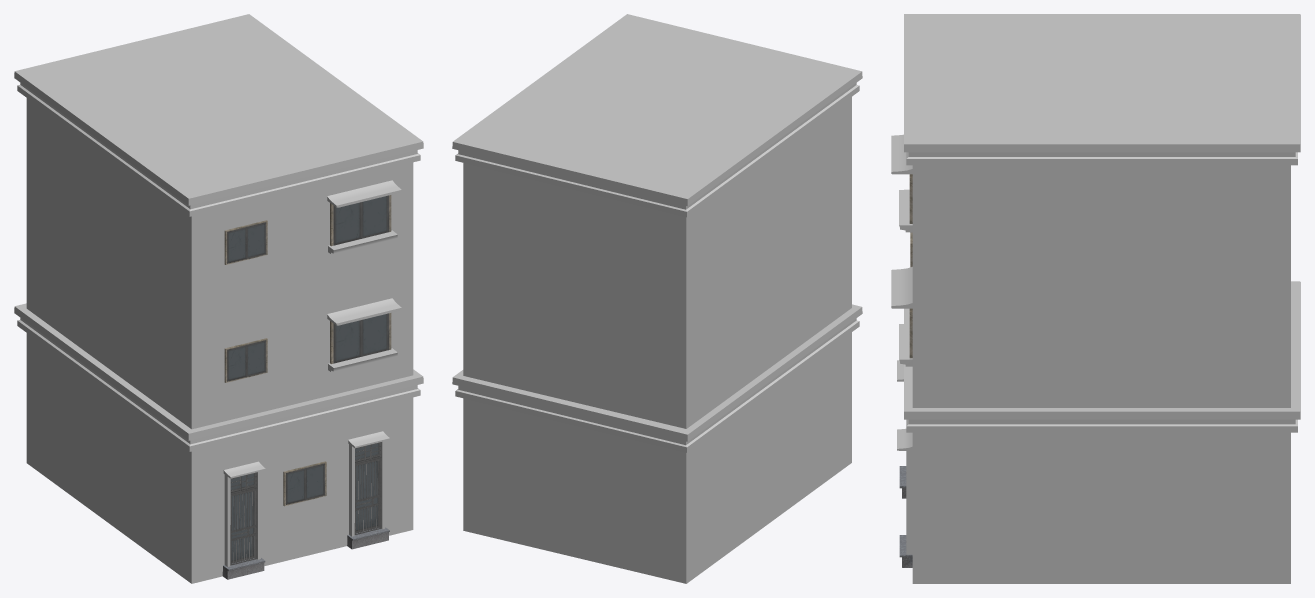
File: SM_House_3HN_02V.fbx
3 renders of one model, left to right at view 1: azimuth 30°, elevation 25°; view 2: azimuth 150°, elevation 25°; view 3: azimuth 270°, elevation 25°, orthographic. The views are drawn at different scales.
Visible parts, largest first — view 1: SM_House, SM_Window_4, SM_Window_1, SM_Door_02, SM_Window_2, SM_Window_3, SM_Window_5, SM_Door_01; view 2: SM_House; view 3: SM_House.
Boxes of the visible parts, x1,y1,x2,y2 form: SM_House: (14,14,423,583); SM_Window_4: (330,195,391,246); SM_Window_1: (330,313,391,363); SM_Door_02: (230,472,257,565); SM_Window_2: (283,461,326,506); SM_Window_3: (224,220,267,264); SM_Window_5: (224,338,267,382); SM_Door_01: (354,442,381,534); SM_House: (452,14,862,583); SM_House: (891,14,1300,583).
Bounding box in the file's own units: 8.48 × 13.44 × 11.25.
